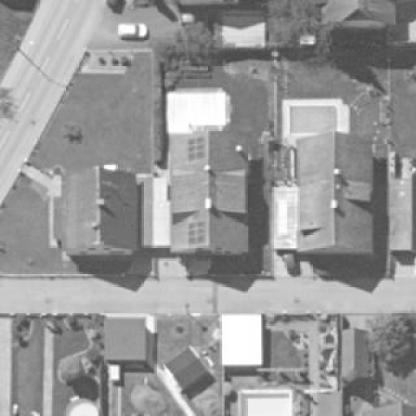solar-pv-panel: (189, 220, 204, 244), (189, 137, 204, 161)
